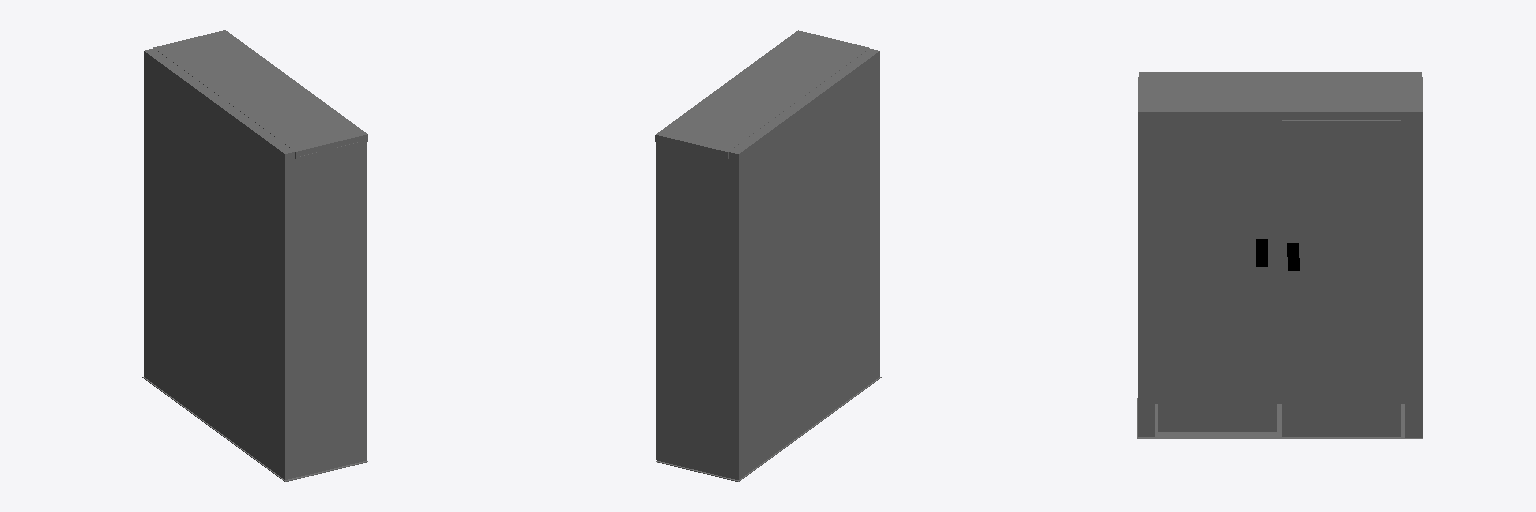
File: cupboard.obj
3 views of the same model, side by side, from view 1: azimuth 30°, elevation 25°; view 2: azimuth 150°, elevation 25°; view 3: azimuth 270°, elevation 25° (orthographic).
Visible parts, largest first — view 1: pCube3, pCube2, pCube4; view 2: pCube3, pasted__pCube2 group2, pCube4; view 3: pasted__pCube1 group1, pCube1, pCube4, pasted__pCube2 group2, pCube2, pCube3, pCube6.
Boxes of the visible parts, x1=… form: pCube3: x1=144, y1=48, x2=296, y2=479; pCube2: x1=297, y1=140, x2=366, y2=476; pCube4: x1=153, y1=30, x2=367, y2=158; pCube3: x1=728, y1=49, x2=879, y2=479; pasted__pCube2 group2: x1=656, y1=142, x2=727, y2=477; pCube4: x1=655, y1=30, x2=869, y2=159; pasted__pCube1 group1: x1=1282, y1=120, x2=1400, y2=436; pCube1: x1=1158, y1=120, x2=1276, y2=431; pCube4: x1=1138, y1=77, x2=1422, y2=119; pasted__pCube2 group2: x1=1405, y1=120, x2=1422, y2=437; pCube2: x1=1138, y1=120, x2=1154, y2=436; pCube3: x1=1139, y1=72, x2=1421, y2=403; pCube6: x1=1137, y1=398, x2=1422, y2=438.
Size of the model in its own units: 2.73 by 10.16 by 8.05.